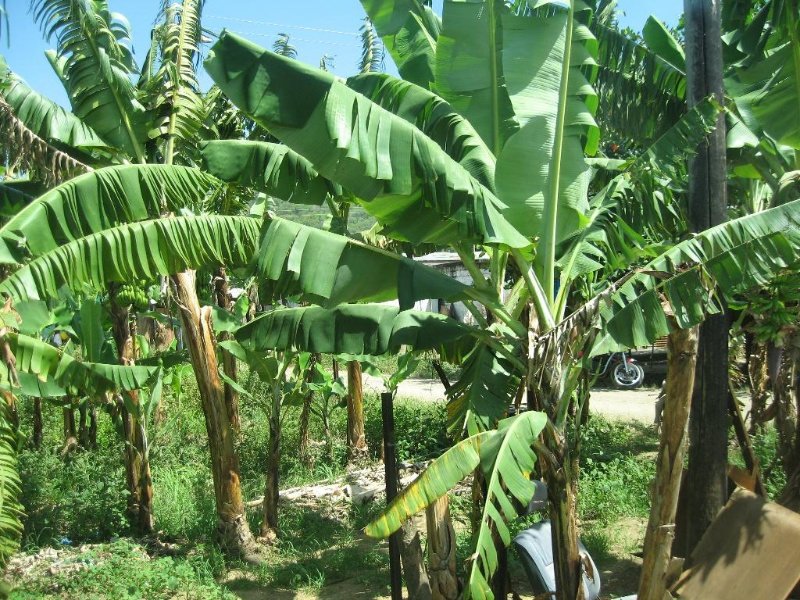banana: (109, 284, 149, 309)
